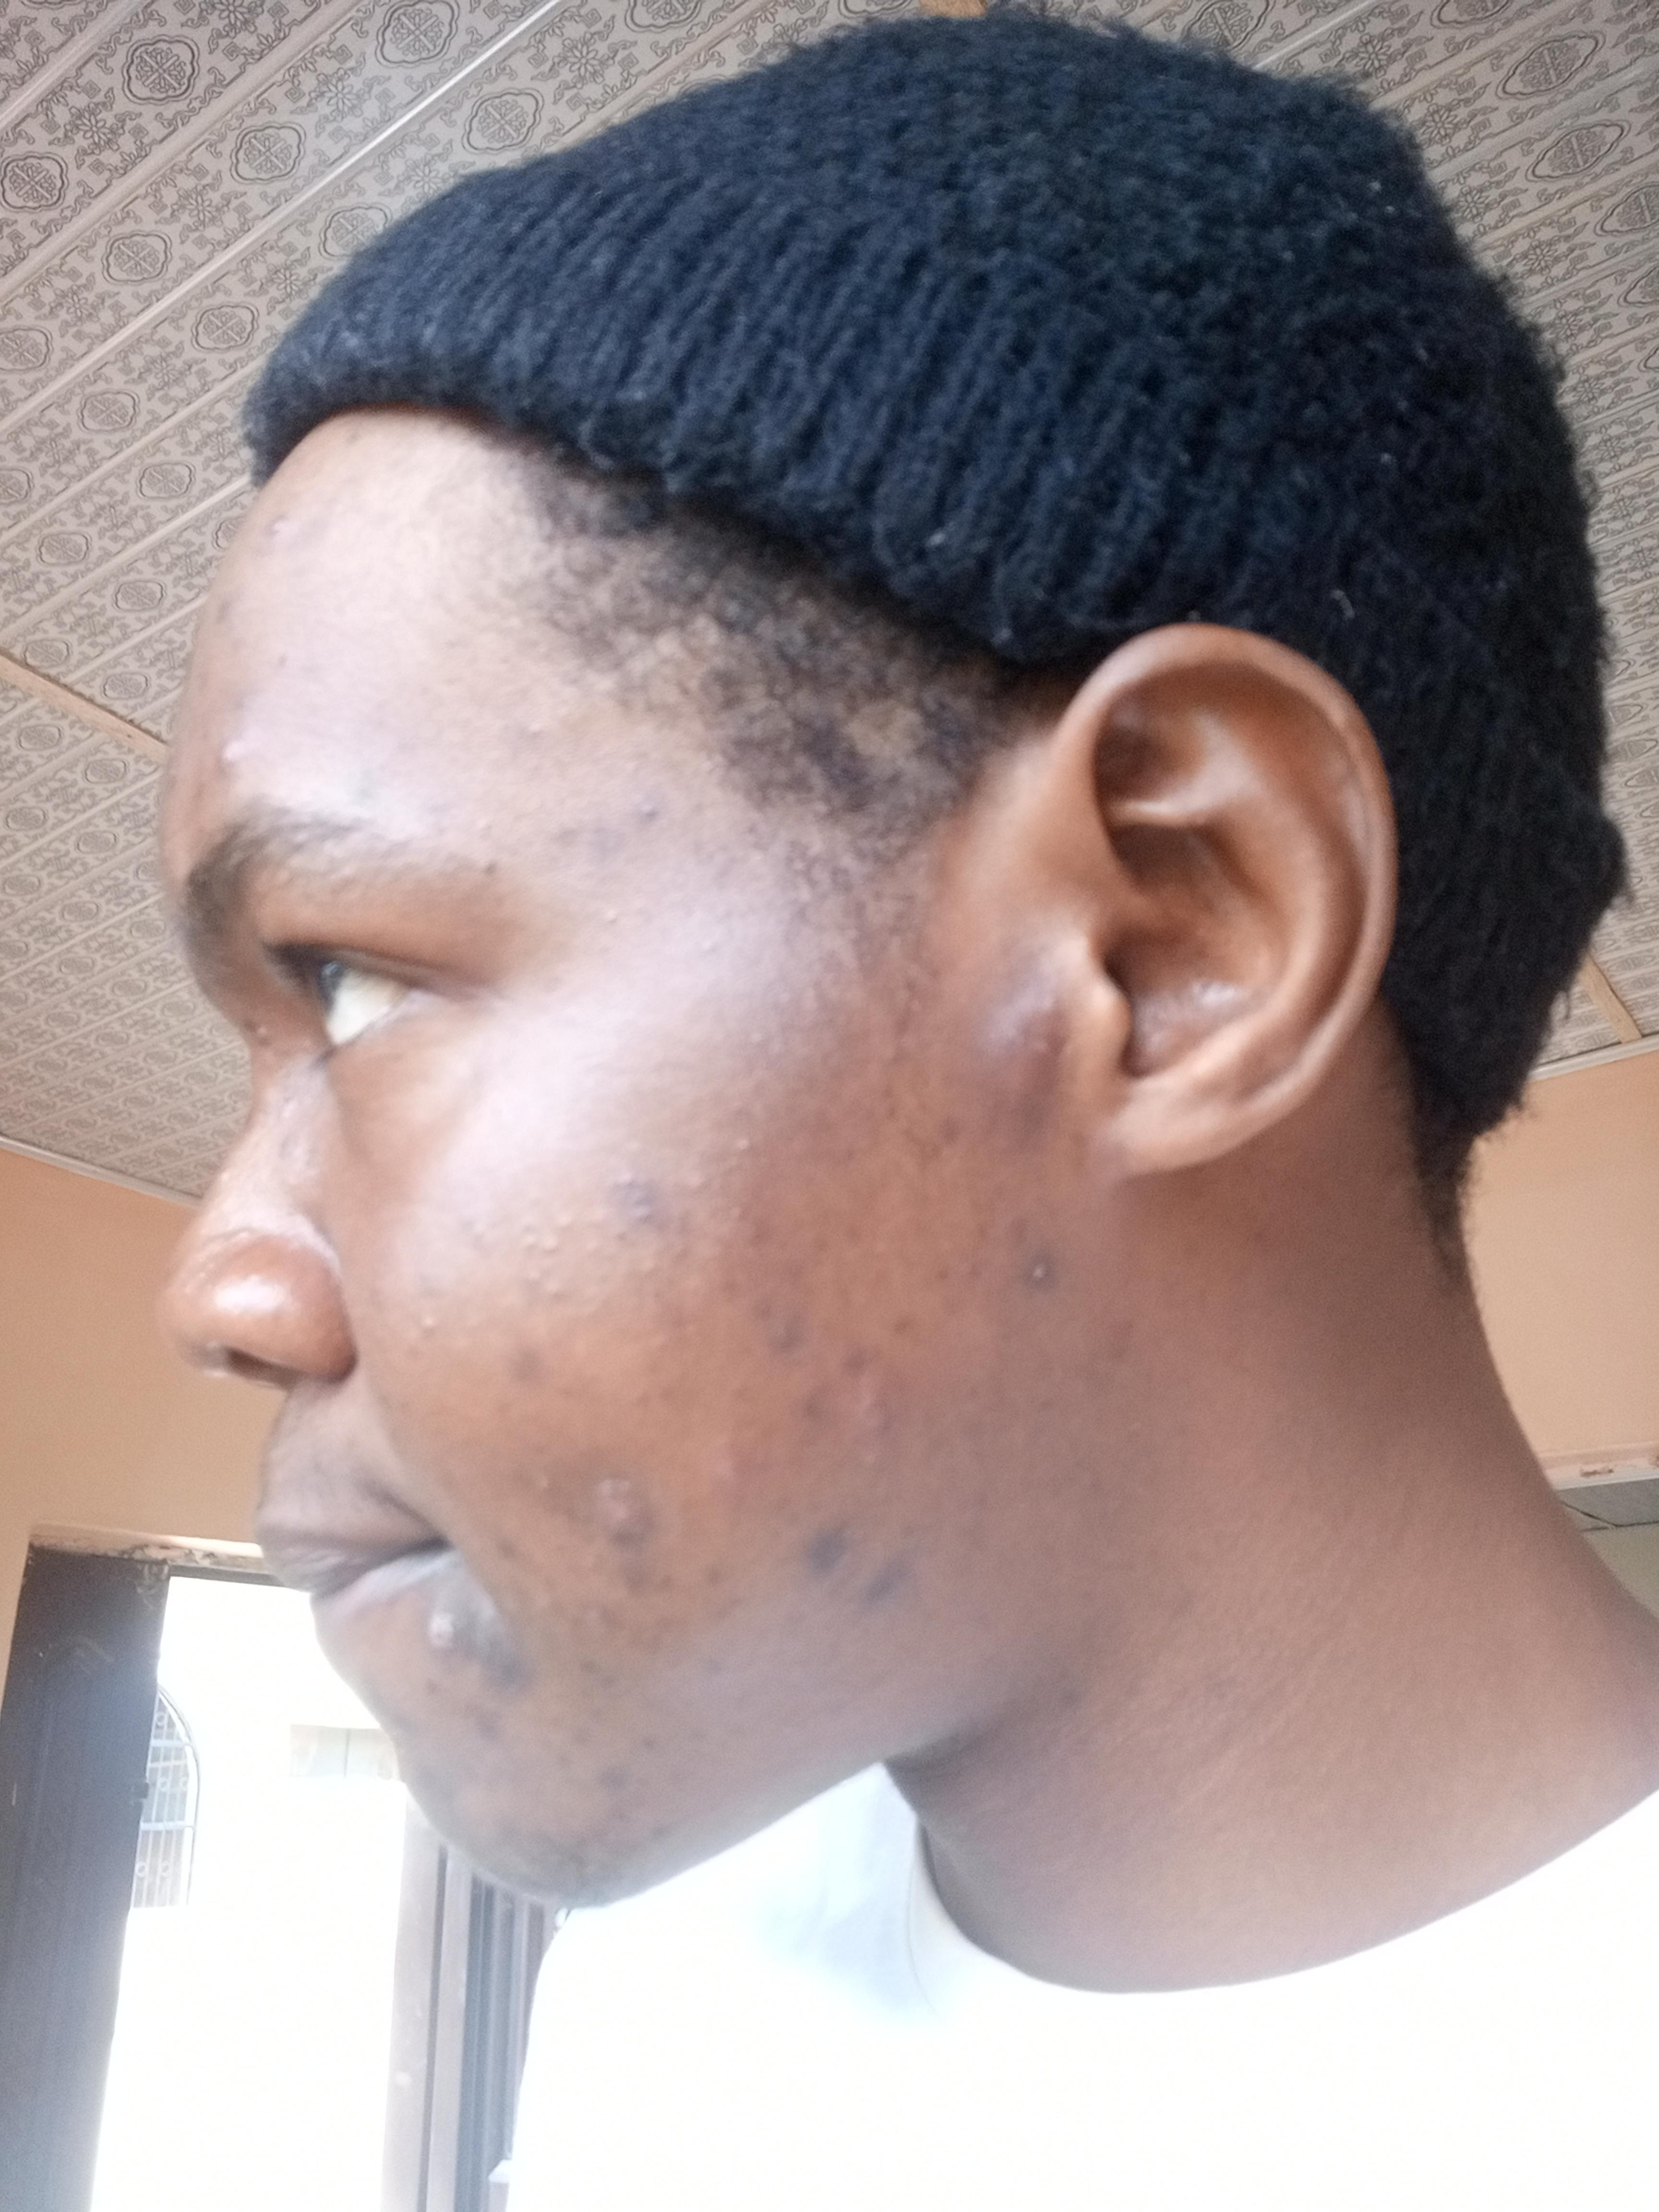Acne: (418, 1585, 547, 1709), (586, 1470, 659, 1585), (516, 1191, 580, 1310), (845, 1329, 896, 1470), (591, 1157, 678, 1230), (542, 812, 636, 866), (849, 1550, 924, 1613), (596, 1599, 673, 1658), (795, 1510, 859, 1576), (207, 726, 263, 794), (697, 1439, 749, 1507), (246, 488, 305, 547), (781, 1374, 833, 1437), (410, 1749, 462, 1810), (702, 1571, 749, 1632), (467, 1700, 530, 1745), (505, 1334, 554, 1390), (568, 1653, 638, 1691), (910, 1111, 957, 1165), (514, 1454, 561, 1507), (779, 1303, 821, 1359), (591, 1749, 640, 1794), (711, 1263, 760, 1299), (507, 714, 556, 751), (202, 587, 244, 629), (221, 678, 265, 718), (683, 1648, 727, 1684), (1025, 1242, 1053, 1298), (484, 1536, 530, 1569), (735, 1200, 775, 1237), (627, 789, 666, 826), (701, 1548, 737, 1587), (1025, 1028, 1061, 1064), (647, 1813, 687, 1844), (641, 1714, 660, 1761)
